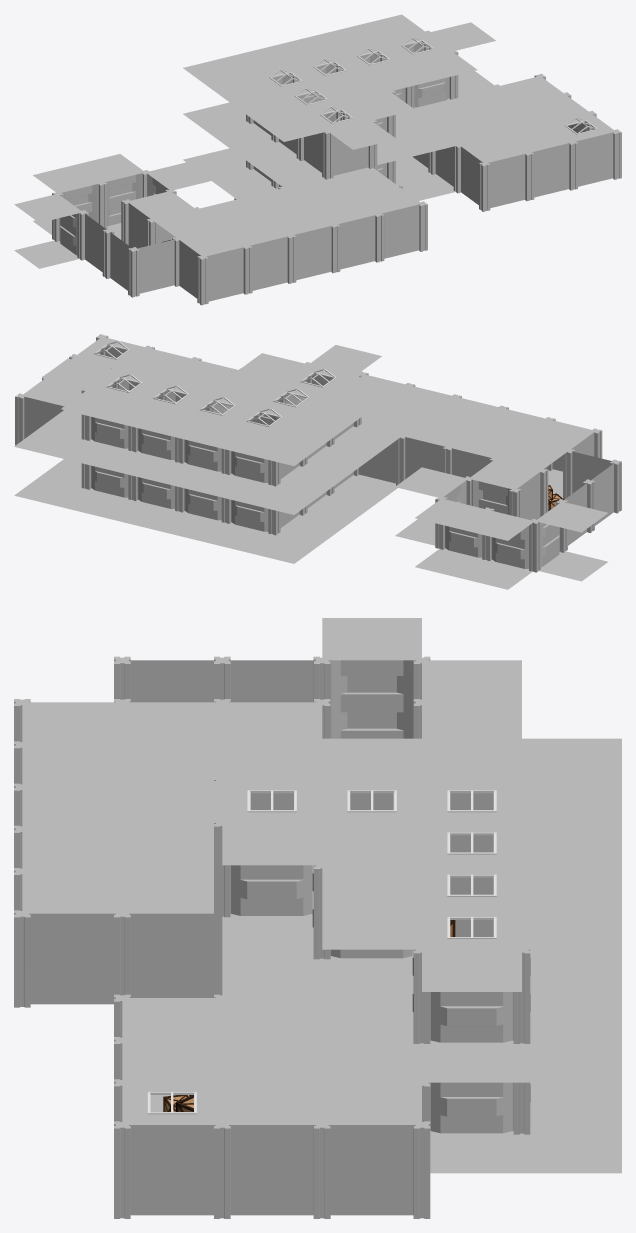
The model's file is level-2.fbx.
3 renders of one model, top to bottom at view 1: azimuth 30°, elevation 25°; view 2: azimuth 150°, elevation 25°; view 3: azimuth 270°, elevation 25°, orthographic. The views are drawn at different scales.
Parts seen in each view (by area): view 1: floor-ceiling, wall-normal, pillar, wall-2nd, windows; view 2: floor-ceiling, wall-2nd, pillar, wall-normal, windows; view 3: floor-ceiling, wall-normal, pillar, wall-2nd, windows.
Part boxes in pixels (x1=…): floor-ceiling: x1=14, y1=14, x2=615, y2=268; wall-normal: x1=85, y1=120, x2=613, y2=301; pillar: x1=52, y1=30, x2=621, y2=305; wall-2nd: x1=59, y1=41, x2=449, y2=255; windows: x1=269, y1=37, x2=598, y2=134; floor-ceiling: x1=14, y1=336, x2=608, y2=589; wall-2nd: x1=91, y1=379, x2=559, y2=568; pillar: x1=15, y1=334, x2=621, y2=572; wall-normal: x1=24, y1=346, x2=613, y2=545; windows: x1=94, y1=341, x2=336, y2=427; floor-ceiling: x1=22, y1=618, x2=621, y2=1173; wall-normal: x1=29, y1=660, x2=493, y2=1215; pillar: x1=14, y1=656, x2=530, y2=1218; wall-2nd: x1=230, y1=660, x2=530, y2=1133; windows: x1=147, y1=790, x2=496, y2=1114.
Size of the model in its own units: 3625 by 639 by 1825.
